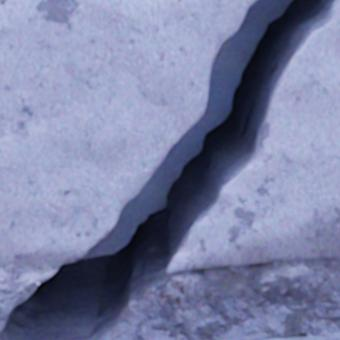brick: (256, 332, 339, 339)
broken_brick: (0, 0, 257, 270), (166, 0, 339, 272)
crack: (0, 0, 337, 339)
